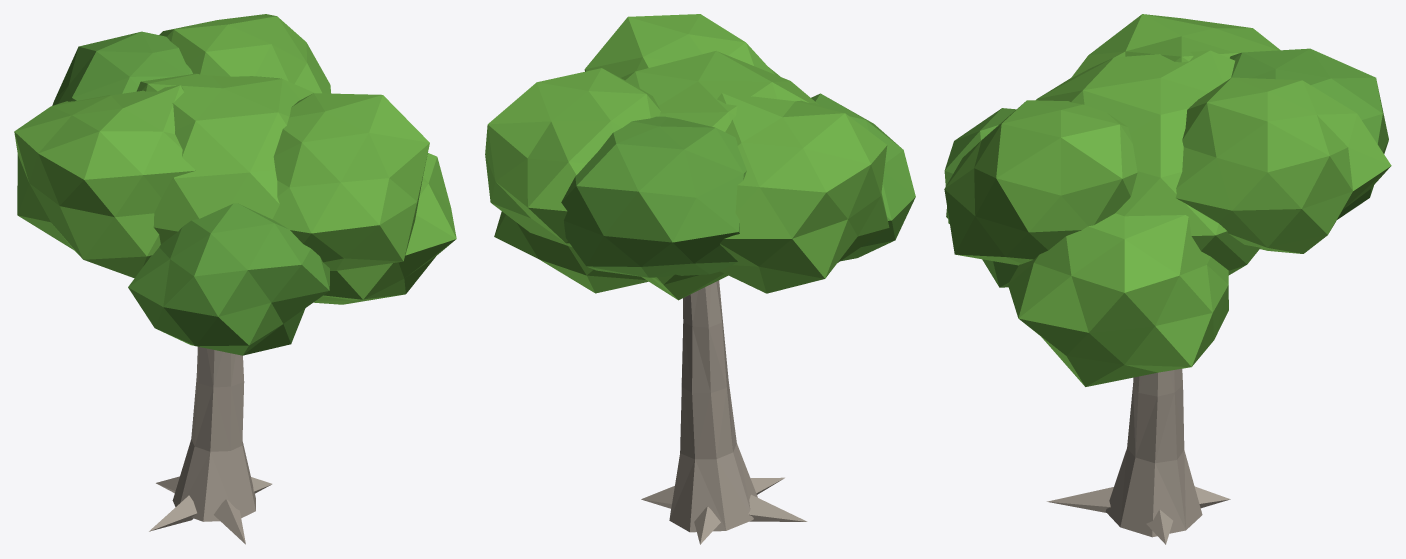
File: HS_LP_Tree_WhiteOak_01.fbx
3 renders of one model, left to right at view 1: azimuth 30°, elevation 25°; view 2: azimuth 150°, elevation 25°; view 3: azimuth 270°, elevation 25°, orthographic. The views are drawn at different scales.
Parts seen in each view (by area): view 1: HS_LP_Tree_WhiteOak_01; view 2: HS_LP_Tree_WhiteOak_01; view 3: HS_LP_Tree_WhiteOak_01.
Part boxes in pixels (x1,y1,x2,y2): HS_LP_Tree_WhiteOak_01: [14, 14, 456, 544]; HS_LP_Tree_WhiteOak_01: [485, 14, 915, 544]; HS_LP_Tree_WhiteOak_01: [944, 14, 1391, 544].
Size of the model in its own units: 452 by 499 by 438.
